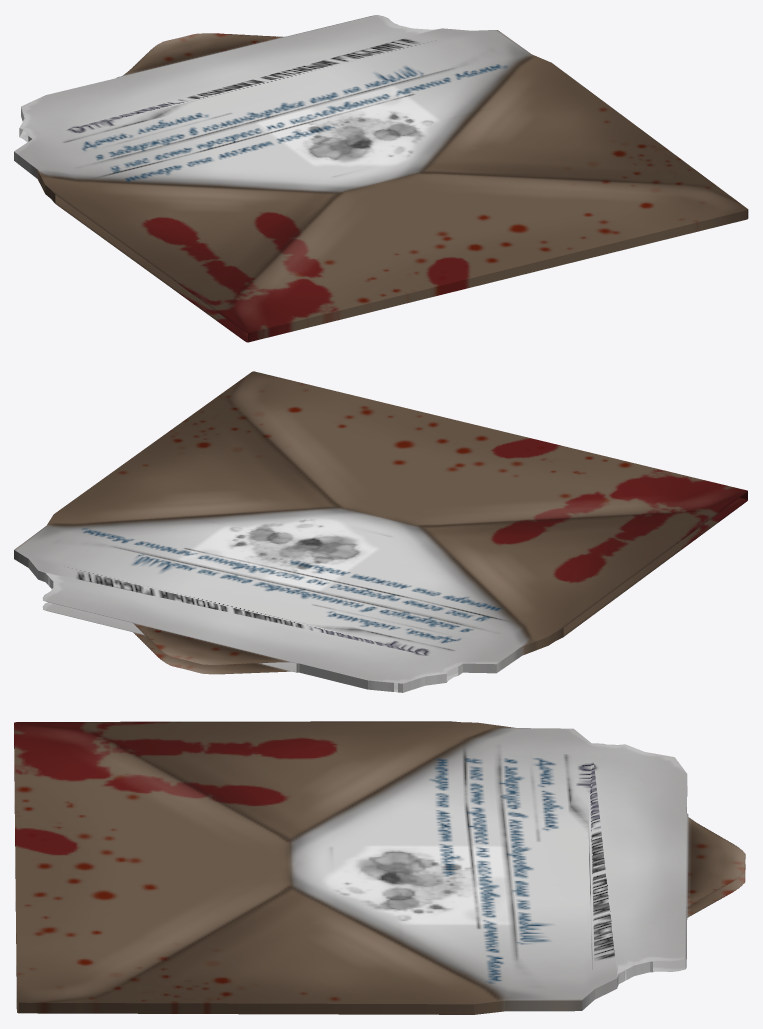
Rendered from the_envelope_with_the_letter_5_lvl.fbx.
3 renders of one model, top to bottom at view 1: azimuth 30°, elevation 25°; view 2: azimuth 150°, elevation 25°; view 3: azimuth 270°, elevation 25°, orthographic. The views are drawn at different scales.
Visible parts, largest first — view 1: the_envelope_with_the_letter_5_lvl; view 2: the_envelope_with_the_letter_5_lvl; view 3: the_envelope_with_the_letter_5_lvl.
Part boxes in pixels (bbox=[...]): the_envelope_with_the_letter_5_lvl: bbox=[14, 15, 748, 342]; the_envelope_with_the_letter_5_lvl: bbox=[14, 371, 747, 692]; the_envelope_with_the_letter_5_lvl: bbox=[14, 721, 745, 1014].
Bounding box in the file's own units: 33.2 × 0.5809 × 36.4.
